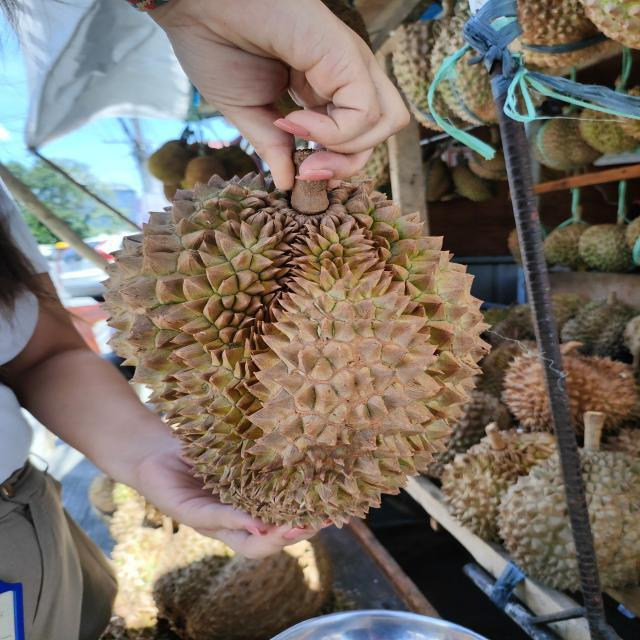mature: (98, 205, 491, 531)
